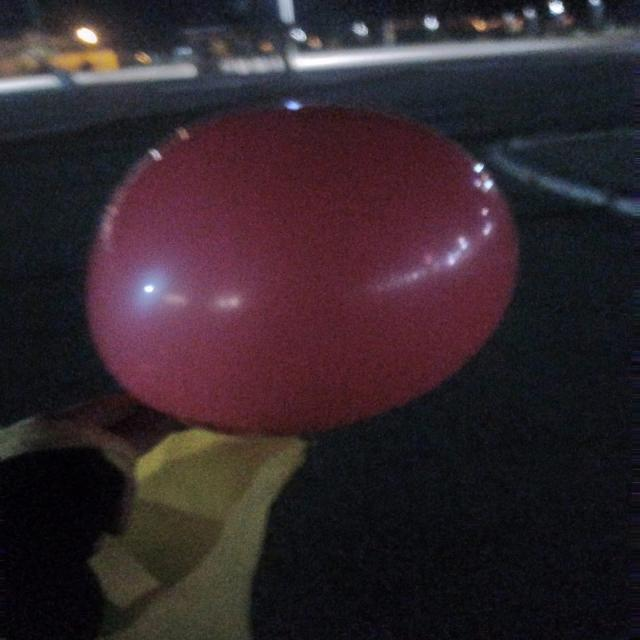balloon: (85, 106, 517, 434)
